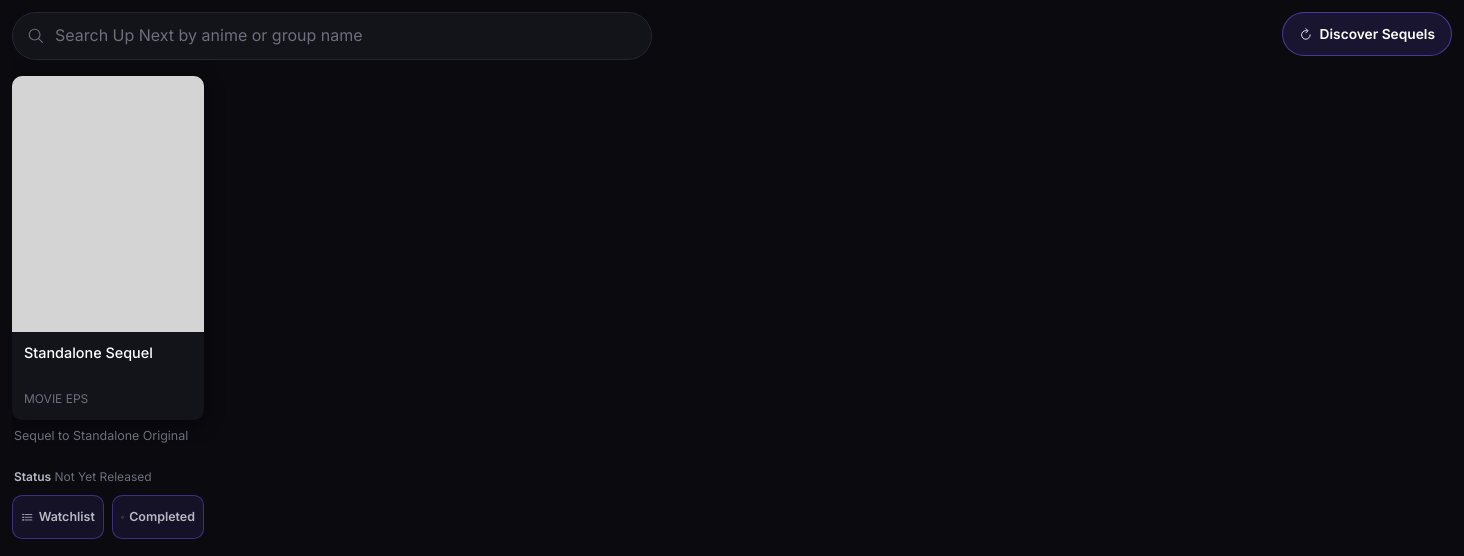
Test: Up Next system Collection › removes a suggestion after its Completed save succeeds
The width and height of the screenshot is (1464, 556).
Click the button with aria-label "mark standalone sequel completed" at (158, 517), box [112,495,204,539]
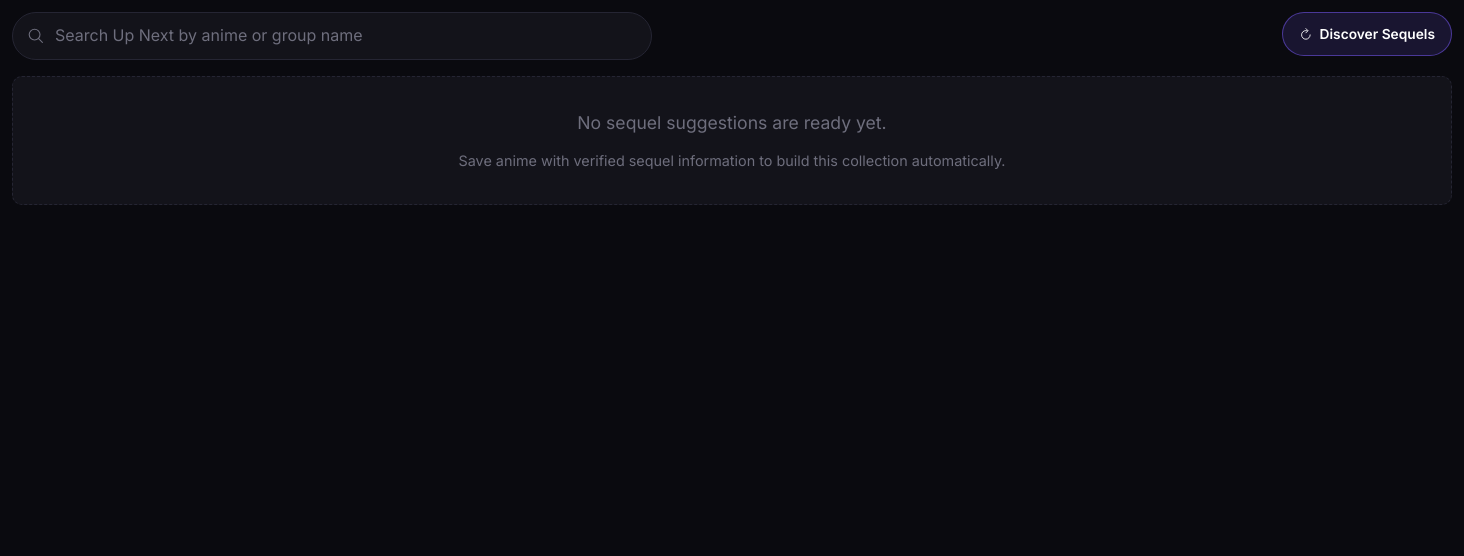
Check: the link "Standalone Sequel" is gone
